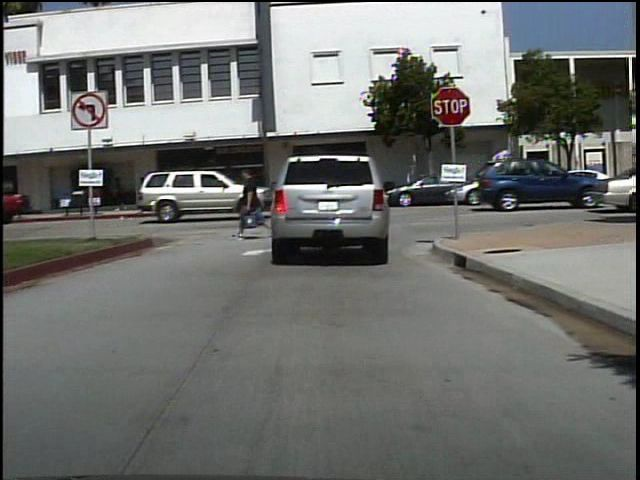person: (237, 161, 274, 240), (111, 171, 134, 211), (137, 172, 156, 209)
